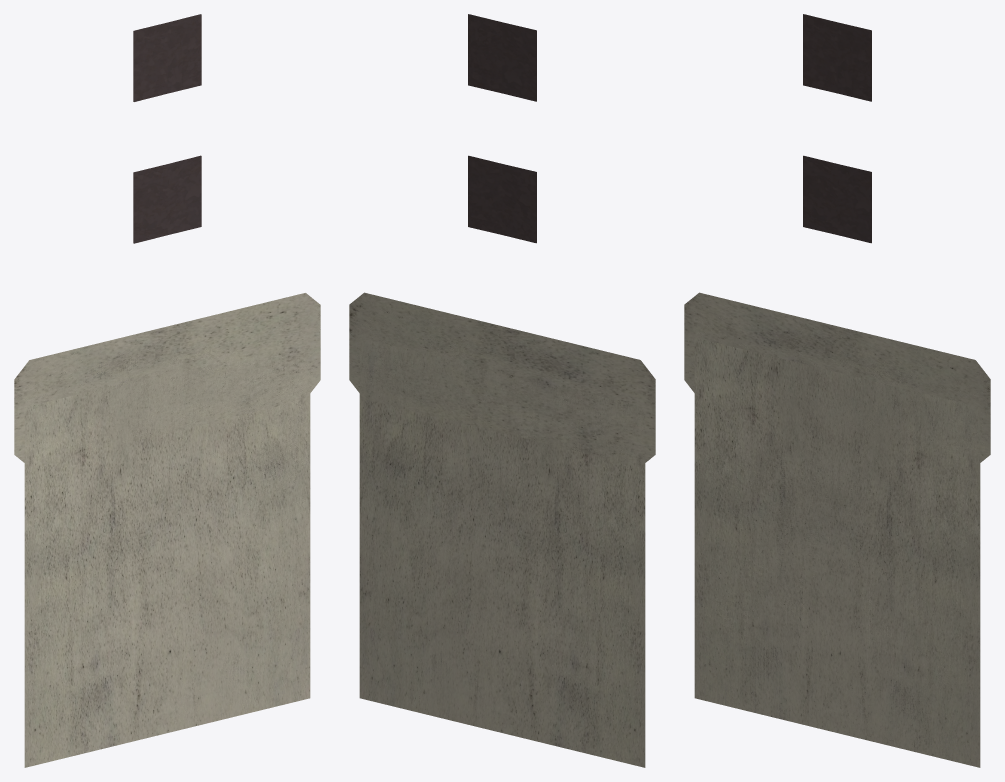
The model's file is GSDRailing7-10m-Cap.FBX.
The picture shows the model from 3 angles, left to right: view 1: azimuth 30°, elevation 25°; view 2: azimuth 150°, elevation 25°; view 3: azimuth 330°, elevation 25°; orthographic projection.
Visible parts, largest first — view 1: GSDRailing7-10m-Cap; view 2: GSDRailing7-10m-Cap; view 3: GSDRailing7-10m-Cap.
Part boxes in pixels (left/top/right/bottom): GSDRailing7-10m-Cap: left=14, top=14, right=320, bottom=767; GSDRailing7-10m-Cap: left=349, top=14, right=655, bottom=767; GSDRailing7-10m-Cap: left=684, top=14, right=990, bottom=767.
Bounding box in the file's own units: 0.45 × 0.9983 × 0.00175.
